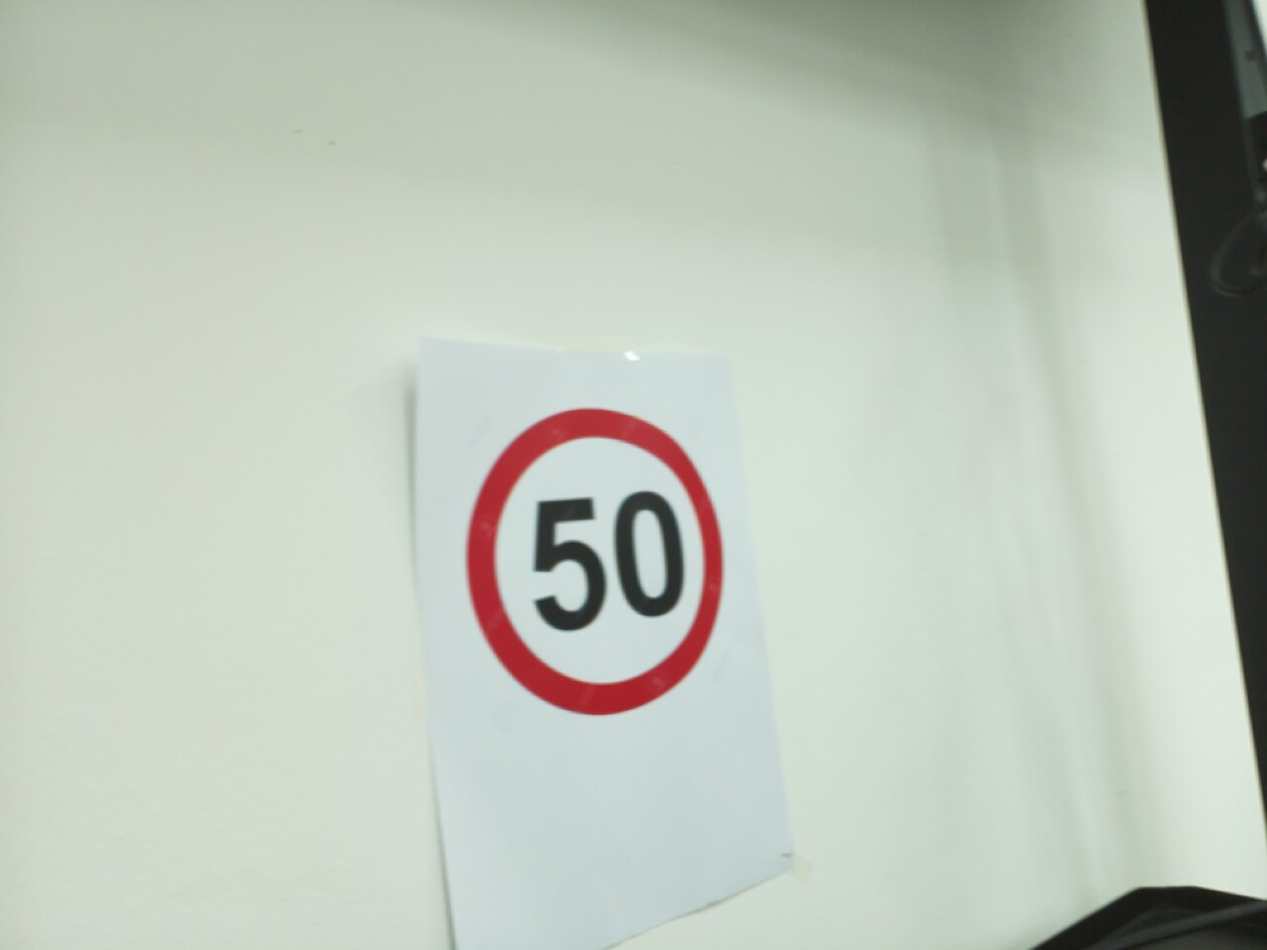speed_50: (457, 398, 731, 725)
